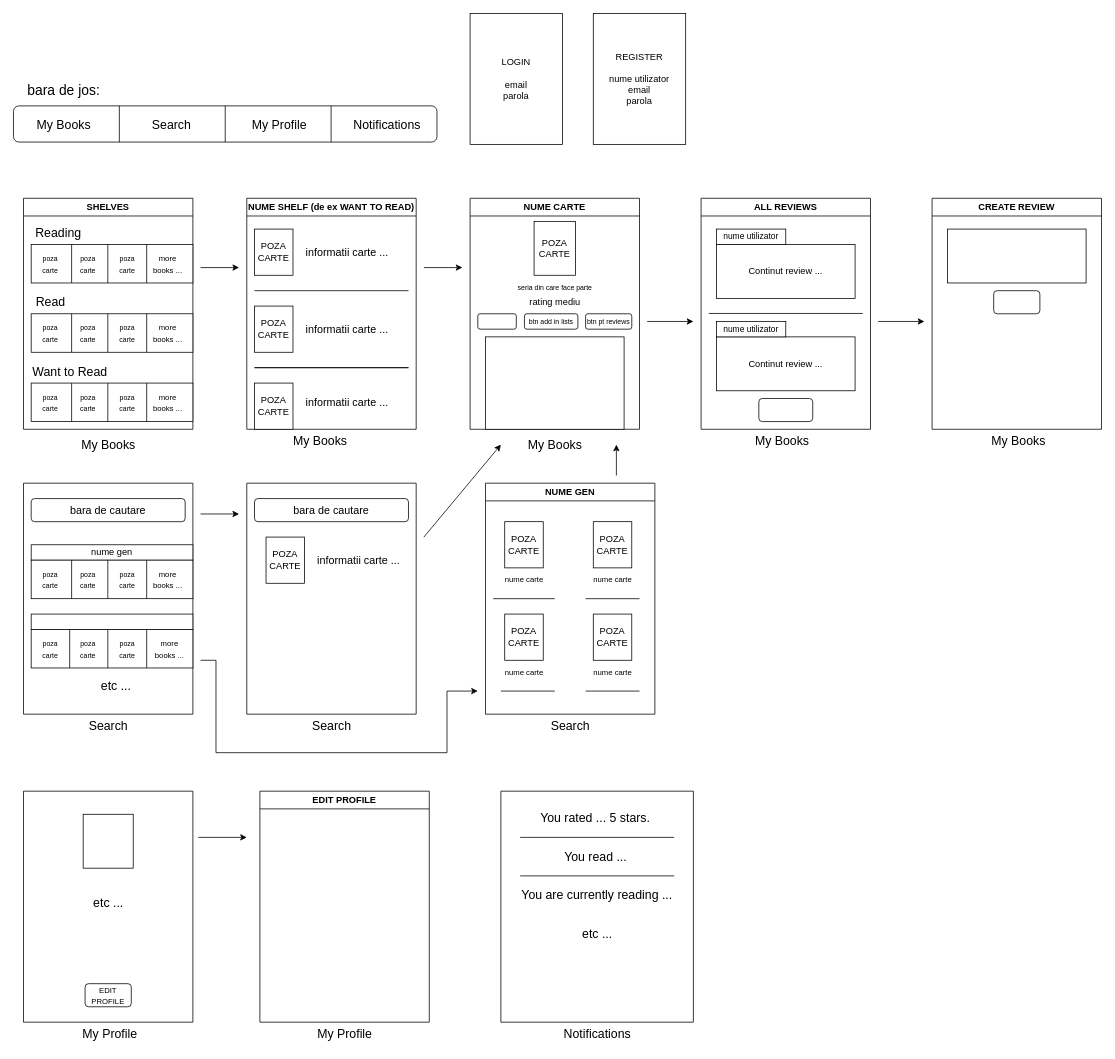
The diagram is 1115 pixels wide and 1059 high, and some of its shapes have lost their labels. The centre of each missing label's shape, as x and y in pixels:
"alt nume gen" goes at pixel 111 621.
"btn pt rating" goes at pixel 496 321.
"DESCRIERE" goes at pixel 554 382.
"POST REVIEW" goes at pixel 1016 302.
"POZA" goes at pixel 107 841.
"WRITE YOUR REVIEW" goes at pixel 785 410.
"Write your review ..." goes at pixel 1016 255.
